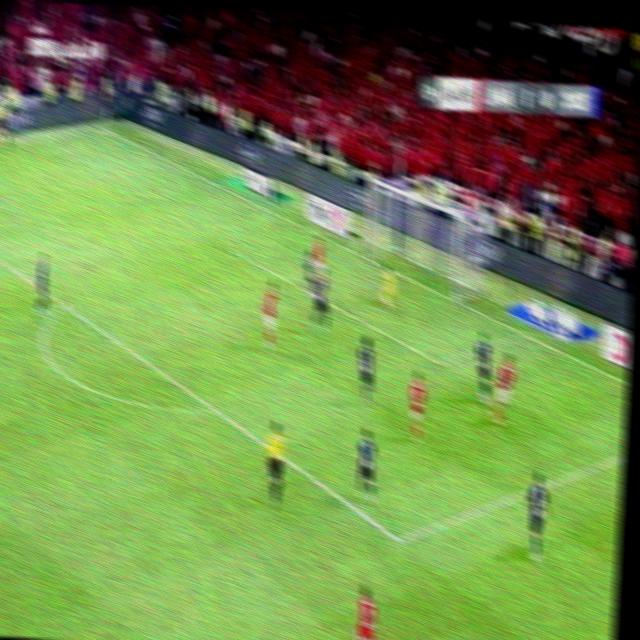bigarea_bottom_inner: (388, 523, 411, 555)
bigarea_top_outter: (202, 172, 218, 187)
bottom_arc_area_intersection: (208, 399, 226, 421)
corner: (98, 123, 113, 133)
smallarea_bottom_inner: (430, 350, 450, 374)
smallarea_bottom_outter: (517, 326, 532, 343)
smallarea_top_inner: (227, 240, 242, 255)
smallarea_top_outter: (303, 222, 317, 237)
top_arc_area_intersection: (57, 296, 72, 313)
